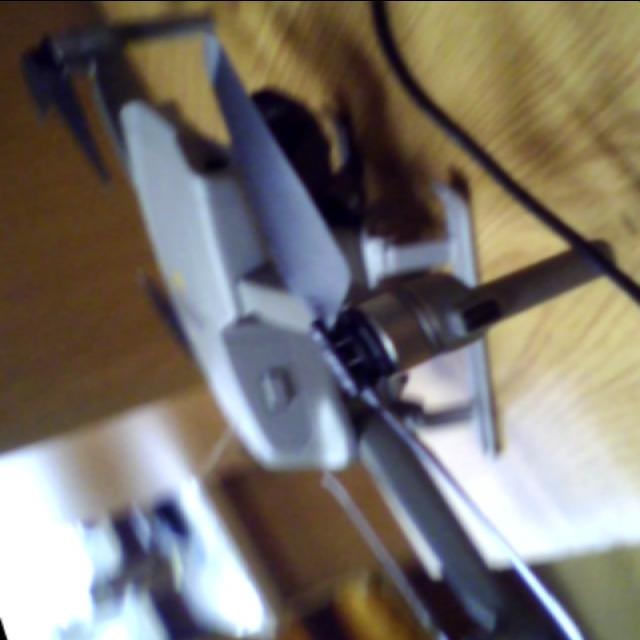drone: (52, 0, 568, 640)
